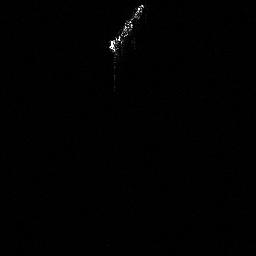ship: (105, 4, 145, 89)
